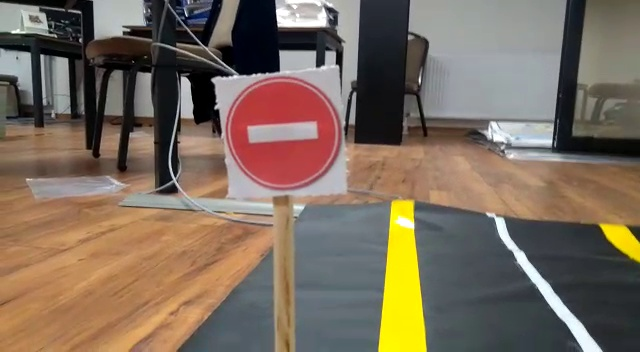girisi_olmayan_yol: (216, 74, 348, 192)
